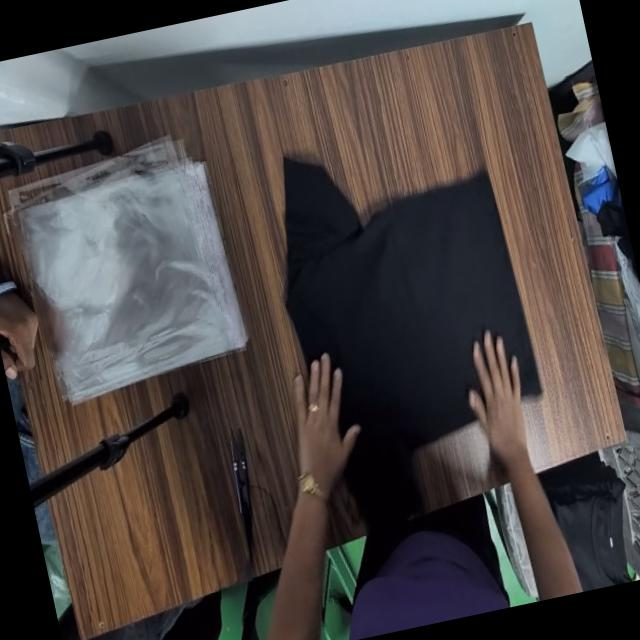new-garment: (283, 158, 539, 470)
